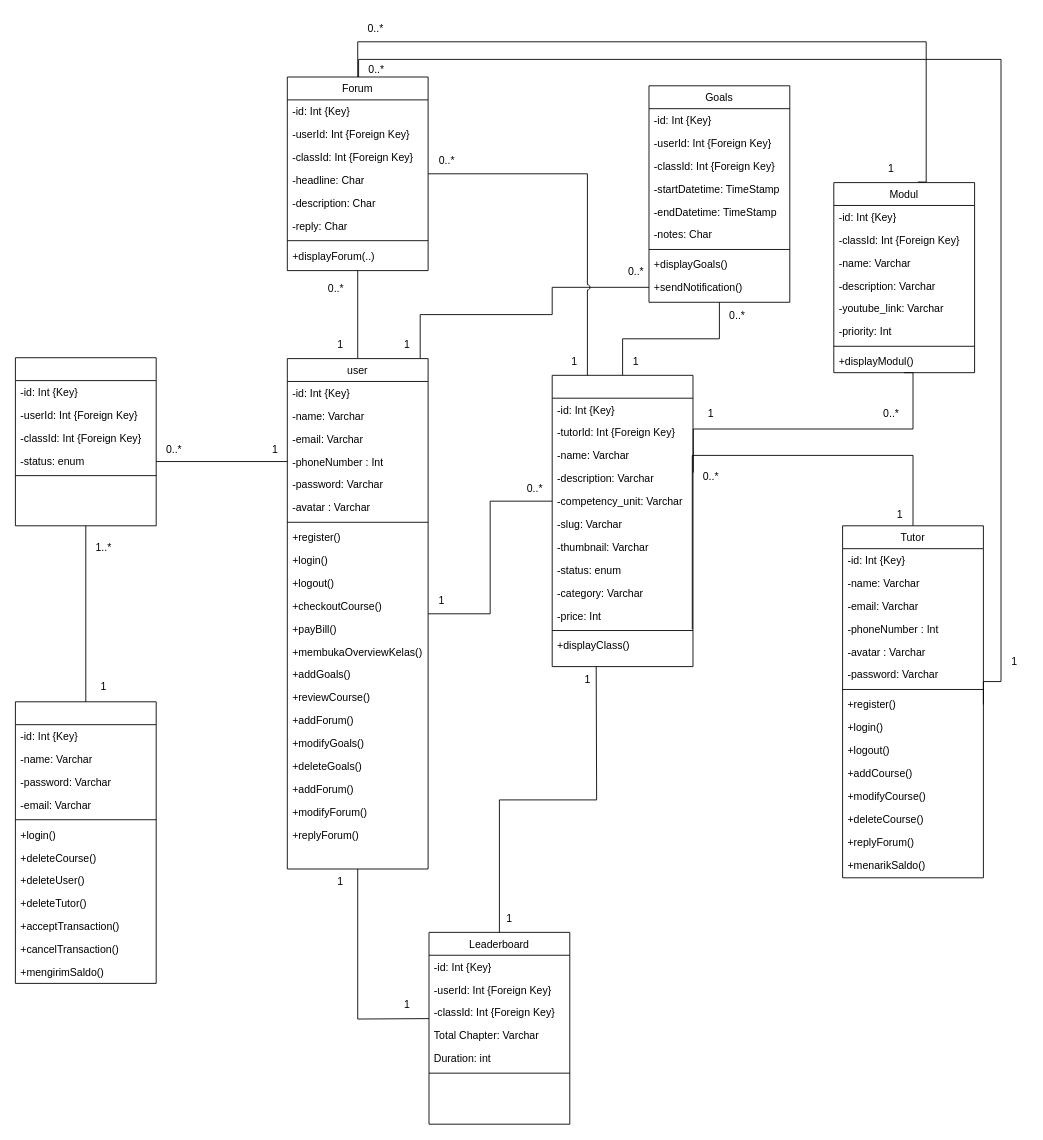
Image size: 1043x1140. Some labels were removed from this diagram. Here are the shapes that lost their labels. From the top down, the box of each, then its label:
(15, 357, 156, 526): Transaction
(551, 374, 693, 667): Kelas
(15, 701, 156, 983): Admin
